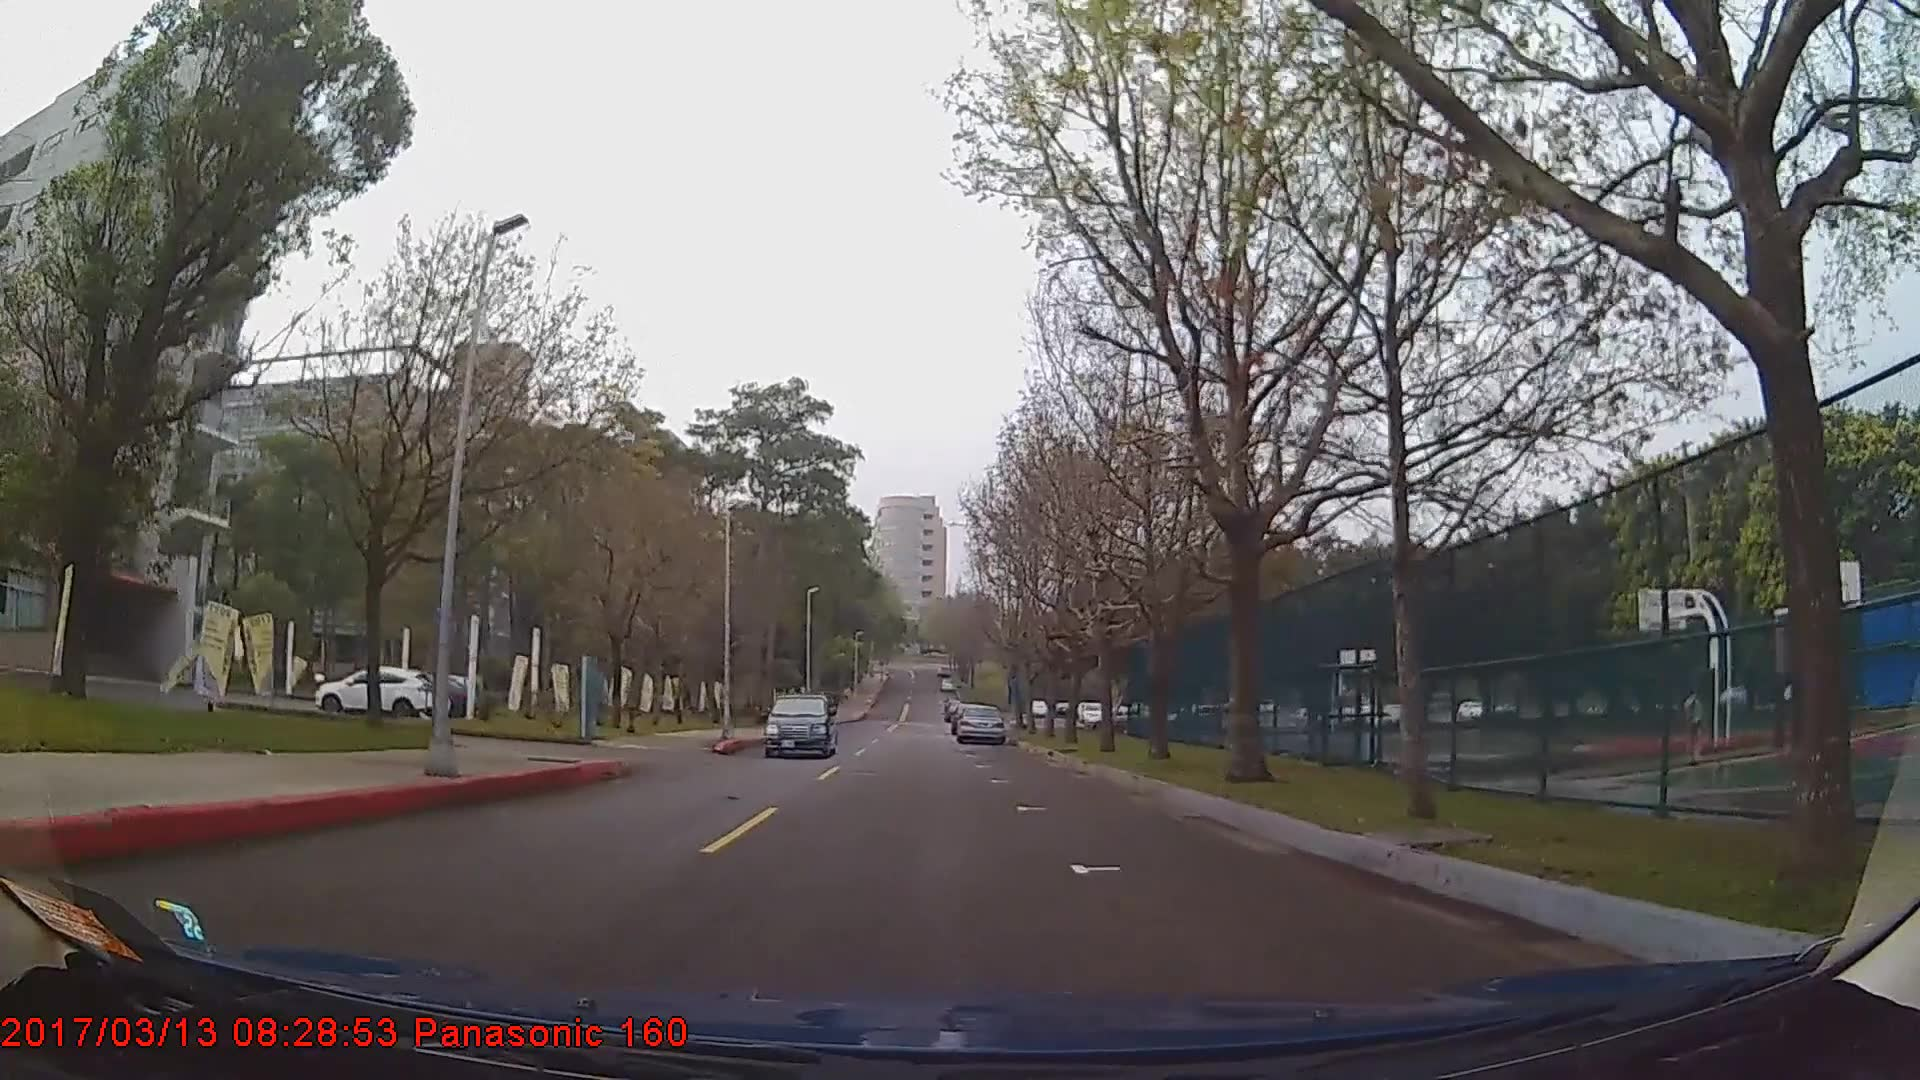vehicle: (313, 662, 444, 719), (760, 692, 835, 758), (955, 702, 1004, 745)
